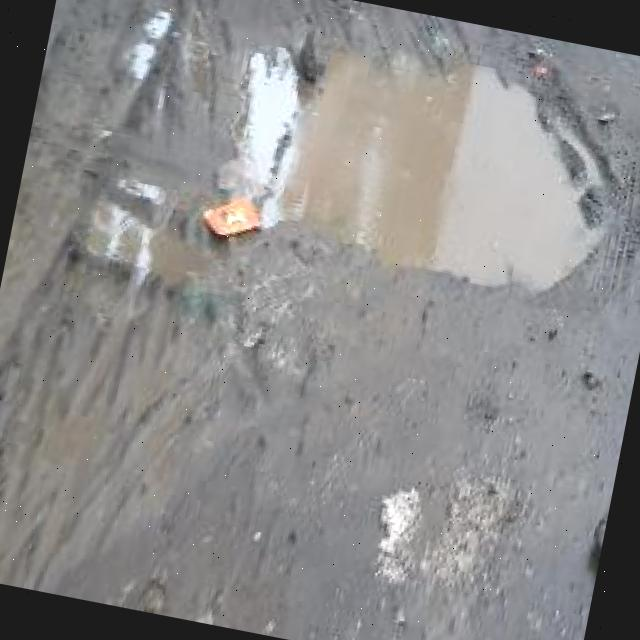waterlogging: (263, 25, 640, 314)
